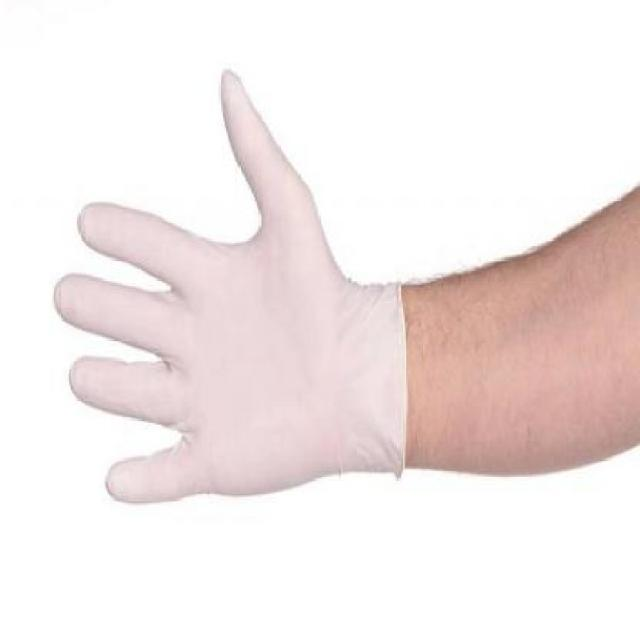Gloves: (50, 68, 414, 519)
